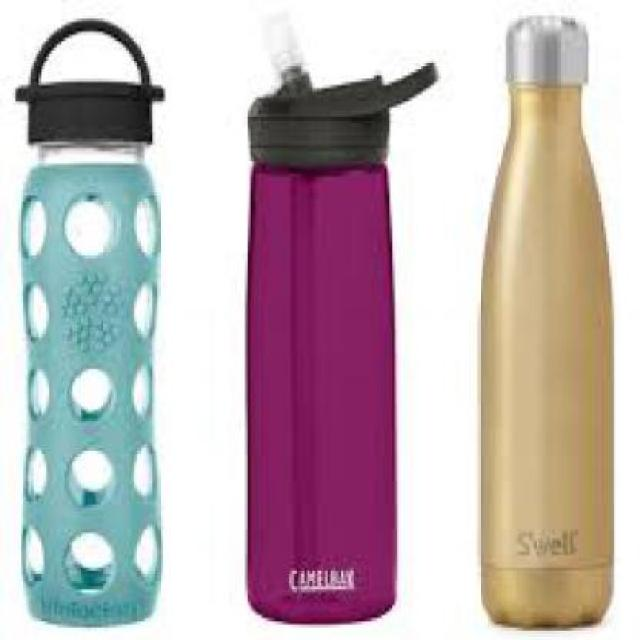Drinking: (225, 15, 426, 637), (456, 16, 622, 630), (10, 21, 170, 622)
